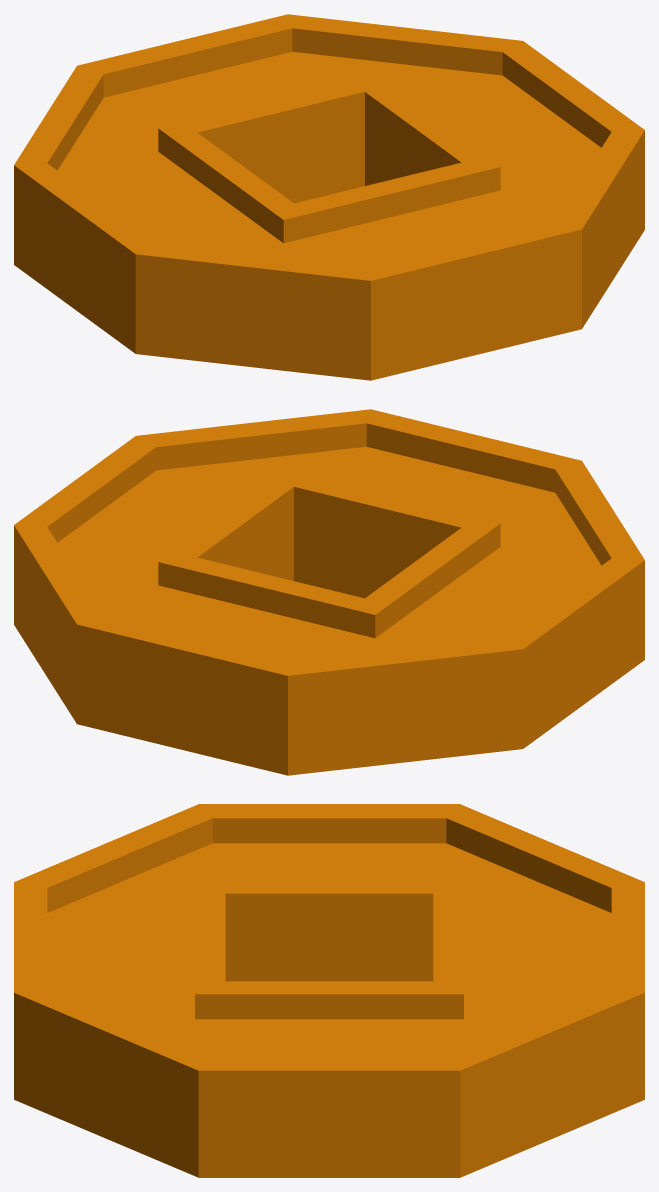
The model's file is coin.fbx.
3 renders of one model, top to bottom at view 1: azimuth 30°, elevation 25°; view 2: azimuth 150°, elevation 25°; view 3: azimuth 270°, elevation 25°, orthographic. The views are drawn at different scales.
Visible parts, largest first — view 1: Cylinder.003; view 2: Cylinder.003; view 3: Cylinder.003.
Part boxes in pixels (left/top/right/bottom): Cylinder.003: left=14, top=14, right=644, bottom=380; Cylinder.003: left=14, top=409, right=644, bottom=775; Cylinder.003: left=14, top=804, right=644, bottom=1177.
Size of the model in its own units: 207 by 38.67 by 207.
